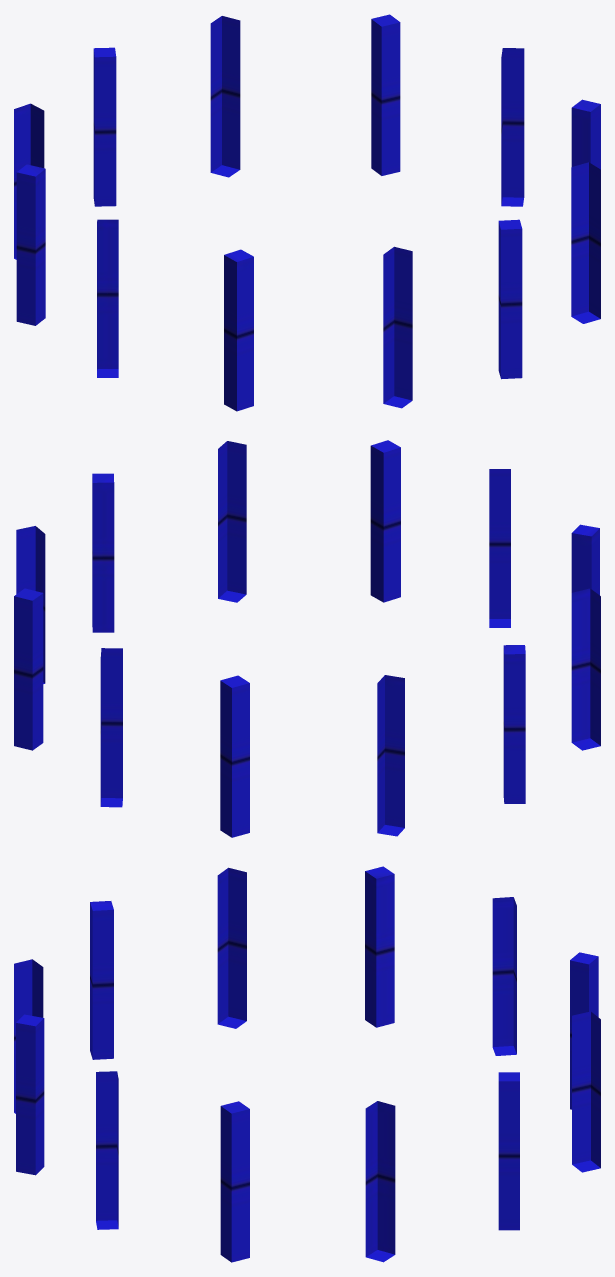
The model's file is railpipe_bolts.glb.
The picture shows the model from 3 angles, top to bottom: view 1: azimuth 30°, elevation 25°; view 2: azimuth 150°, elevation 25°; view 3: azimuth 270°, elevation 25°; orthographic projection.
Size of the model in its own units: 76.41 by 21.46 by 76.67.
1 material, 1 textured.
